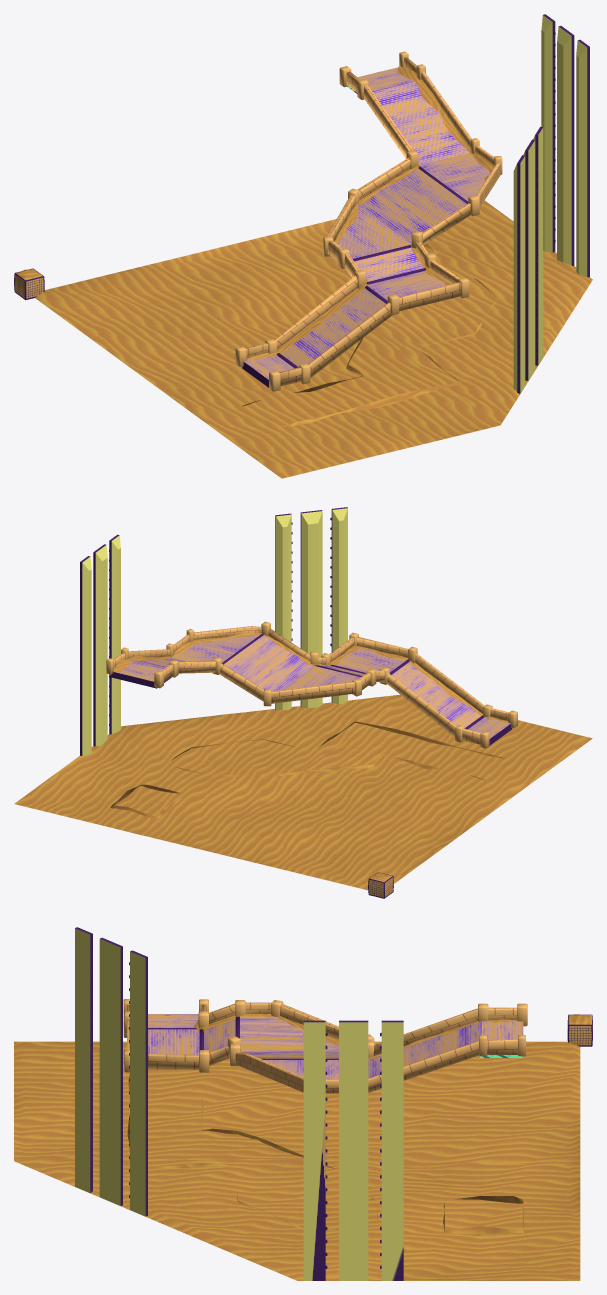
The model's file is Desert_updates.fbx.
3 renders of one model, top to bottom at view 1: azimuth 30°, elevation 25°; view 2: azimuth 150°, elevation 25°; view 3: azimuth 270°, elevation 25°, orthographic. The views are drawn at different scales.
Visible parts, largest first — view 1: Desert_floor001, Desert_floor, Desert_moving_platform, Desert_moving_platform2, Box_with_sand; view 2: Desert_floor001, Desert_floor, Desert_moving_platform2, Desert_moving_platform, Box_with_sand; view 3: Desert_floor001, Desert_moving_platform, Desert_floor, Desert_moving_platform2, Box_with_sand.
Part boxes in pixels (x1=…): Desert_floor001: x1=35, y1=86, x2=592, y2=478; Desert_floor: x1=235, y1=51, x2=502, y2=391; Desert_moving_platform: x1=541, y1=14, x2=589, y2=277; Desert_moving_platform2: x1=513, y1=126, x2=543, y2=393; Box_with_sand: x1=14, y1=268, x2=44, y2=300; Desert_floor001: x1=14, y1=677, x2=592, y2=890; Desert_floor: x1=106, y1=621, x2=517, y2=748; Desert_moving_platform2: x1=275, y1=507, x2=347, y2=709; Desert_moving_platform: x1=80, y1=534, x2=120, y2=755; Box_with_sand: x1=368, y1=872, x2=393, y2=898; Desert_floor001: x1=14, y1=1041, x2=580, y2=1280; Desert_moving_platform: x1=303, y1=1020, x2=403, y2=1280; Desert_floor: x1=123, y1=999, x2=527, y2=1093; Desert_moving_platform2: x1=75, y1=927, x2=147, y2=1216; Box_with_sand: x1=567, y1=1014, x2=592, y2=1046.
Bounding box in the file's own units: 1597 × 806 × 1597.
Materials: 1 (1 with a texture image).
